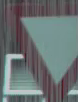Give way: (5, 2, 77, 93)
